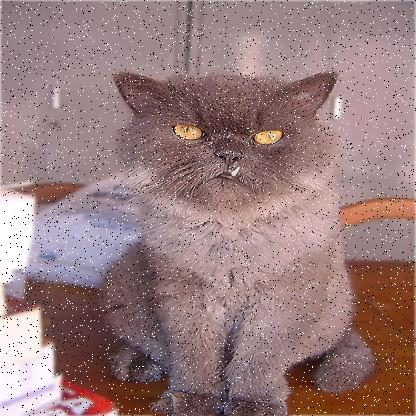cat: (96, 53, 385, 415)
